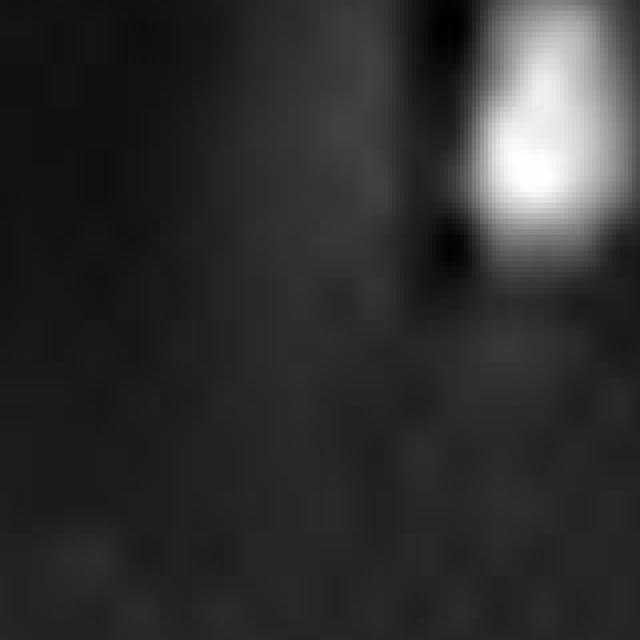person: (465, 1, 640, 321)
